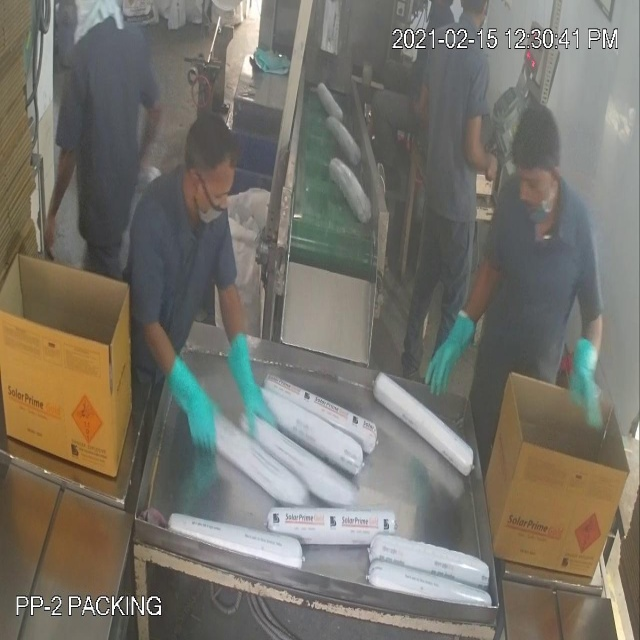Guantes: (164, 337, 231, 468), (223, 305, 274, 454), (423, 290, 475, 407), (564, 310, 612, 433)
Sin_guantes: (42, 133, 77, 257), (455, 95, 500, 188), (139, 81, 164, 200)
